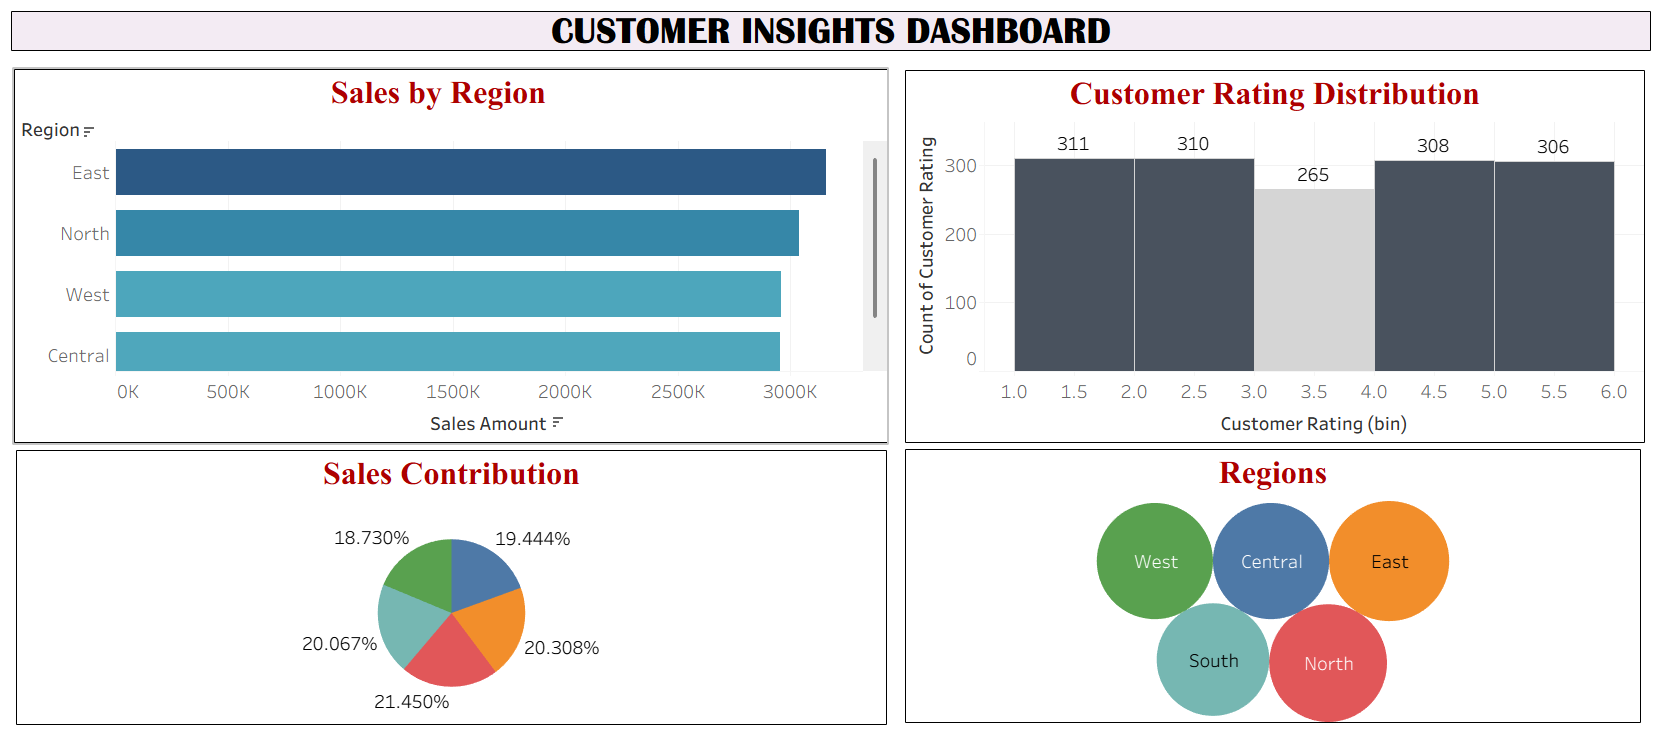

The dashboard page shown, as its layout file describes it:
{"tool":"tableau","page":{"name":"Dashboard 2","canvas":[1000,1000],"units":"permille","ordinal":1},"visuals":[{"type":"title","box":[5,10.7,990,64.3]},{"type":"worksheet","title":"Customer_Rating_Analysis","mark":"Automatic","rows":["Customer_Rating"],"cols":["Customer Rating (bin)"],"box":[540.5,89.8,445.1,500]},{"type":"worksheet","title":"Sales_by_Region","mark":"Automatic","rows":["Region"],"cols":["Sales_Amount"],"box":[9,93.8,524.9,501.3]},{"type":"worksheet","title":"Sales_Contribution","mark":"Pie","box":[10.2,604.6,523.7,368.6]},{"type":"worksheet","title":"Regions","mark":"Circle","box":[540.5,604.6,442.6,367.3]}]}

Visuals, with their boxes on the dashboard's canvas, which has no fixed pixel size, in thousandths of its width and height (x1, y1, x2, y2). These are canvas units, not pixel positions in the 1657x735 screenshot, which may show the page scaled, cropped or inside an application window:
title: bbox=(5, 11, 995, 75)
"Customer_Rating_Analysis" worksheet: bbox=(540, 90, 986, 590)
"Sales_by_Region" worksheet: bbox=(9, 94, 534, 595)
"Sales_Contribution" worksheet (Pie marks): bbox=(10, 605, 534, 973)
"Regions" worksheet (Circle marks): bbox=(540, 605, 983, 972)
